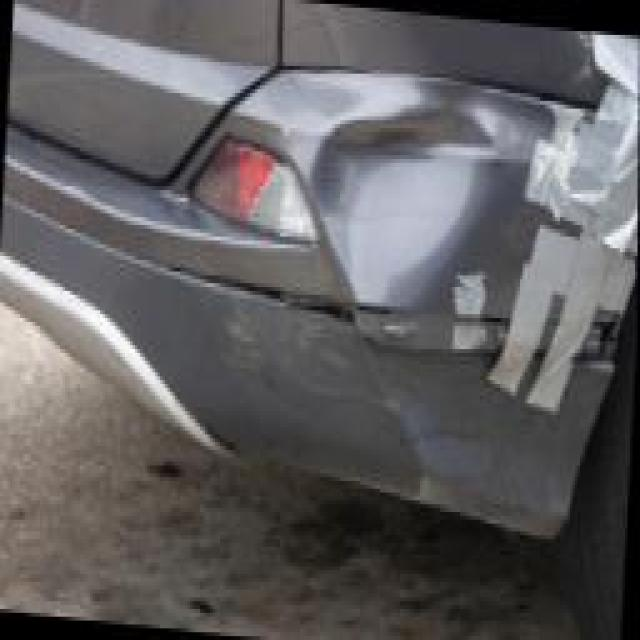Bumper: (225, 62, 526, 469)
